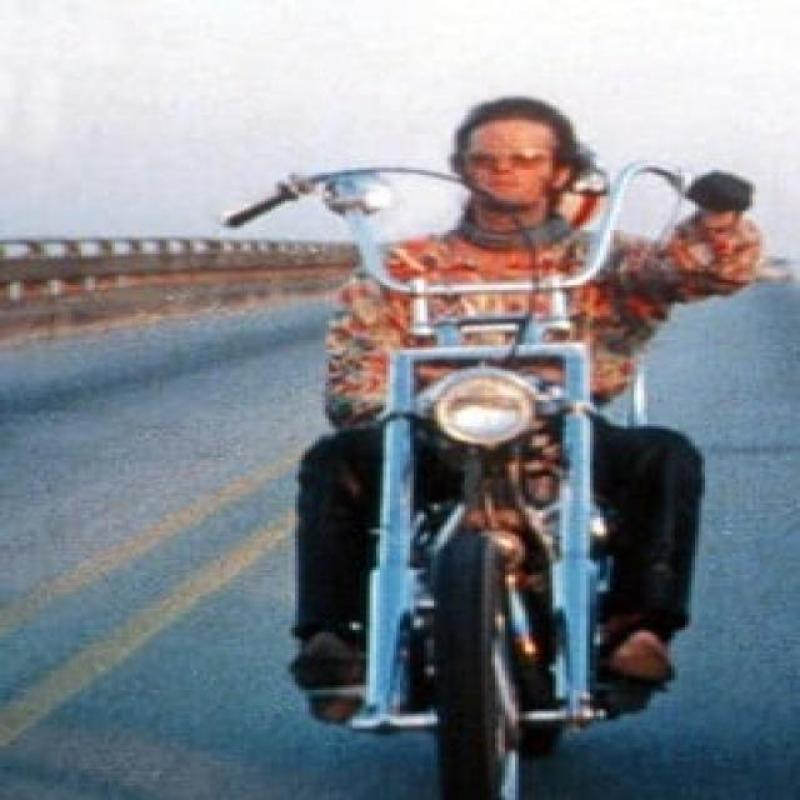nohelmet: (430, 85, 588, 199)
